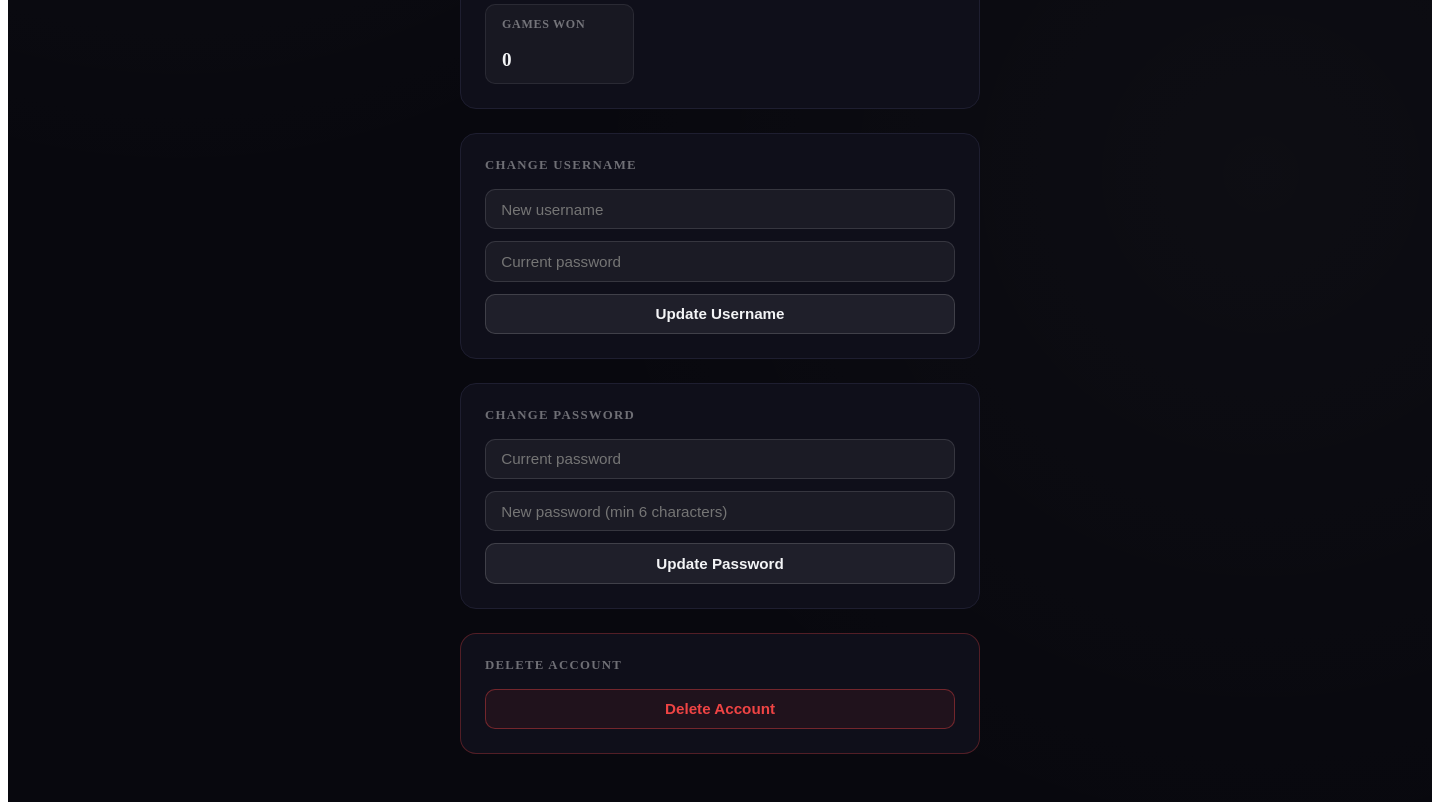
Test: ACCOUNT: DELETE ACCOUNT — ProfilePage component › clicking "Delete Account" reveals password confirmation form
(page scrolled)
Click the button "Delete Account": (720, 709) [485,688,955,729]
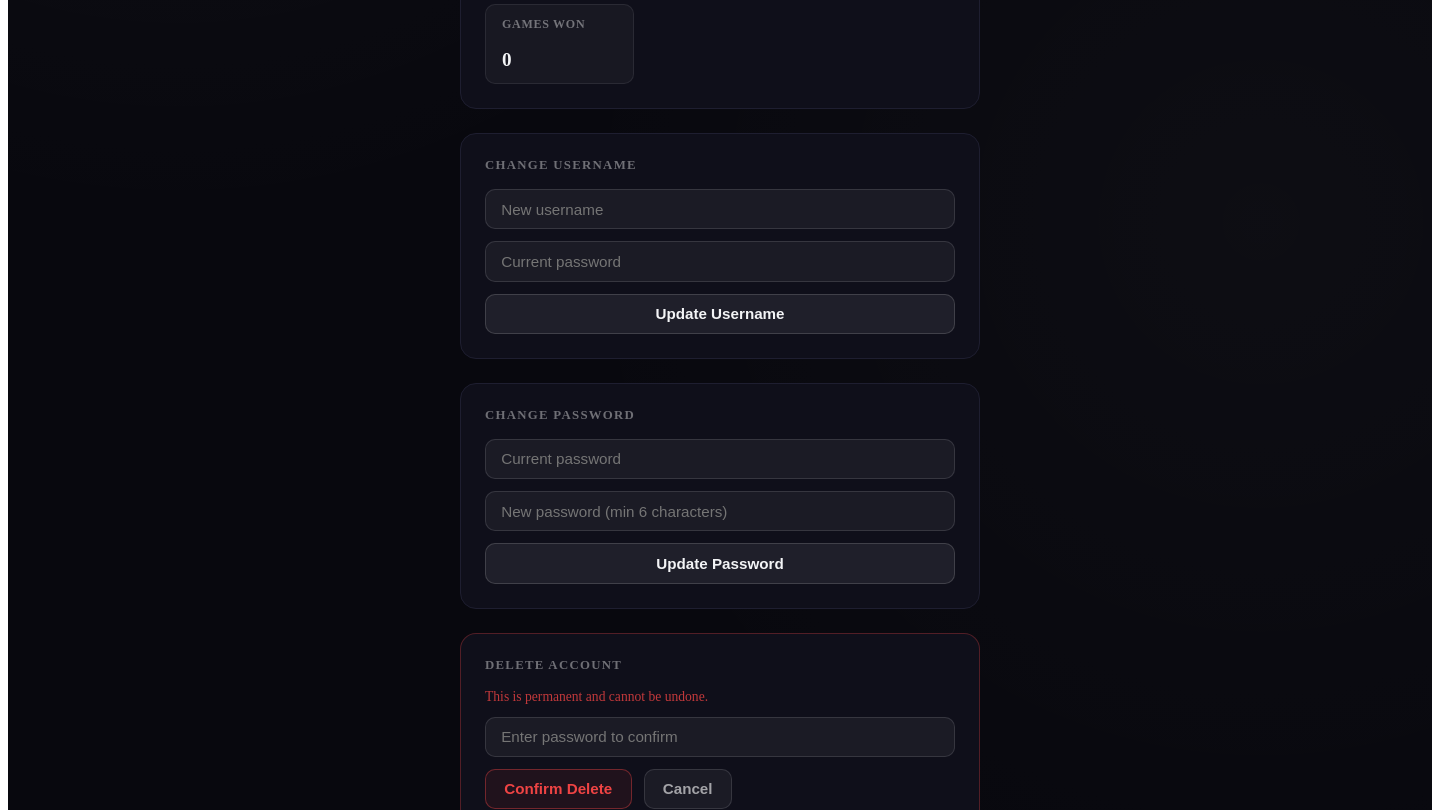
Check: the password field with placeholder "Enter password to confirm" is shown, box [485,716,955,757]
Check: the button "Confirm Delete" is shown, box [485,769,632,809]
Check: the button "Cancel" is shown, box [644,769,732,809]
